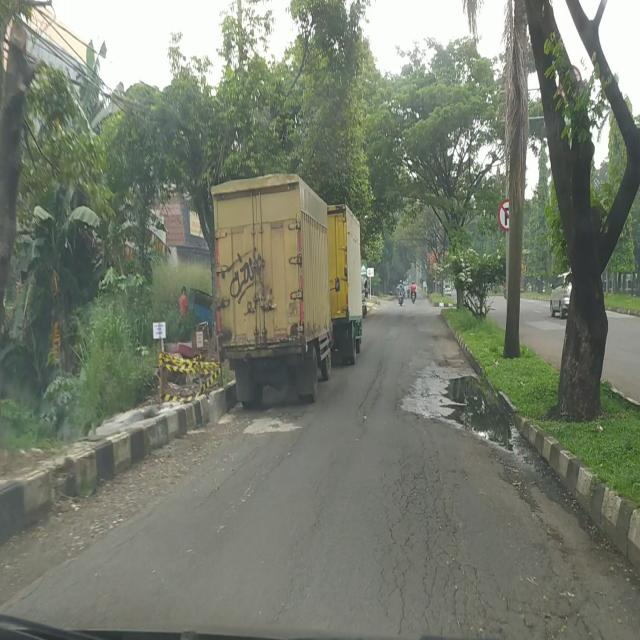Drain Hole: (385, 450, 594, 640)
